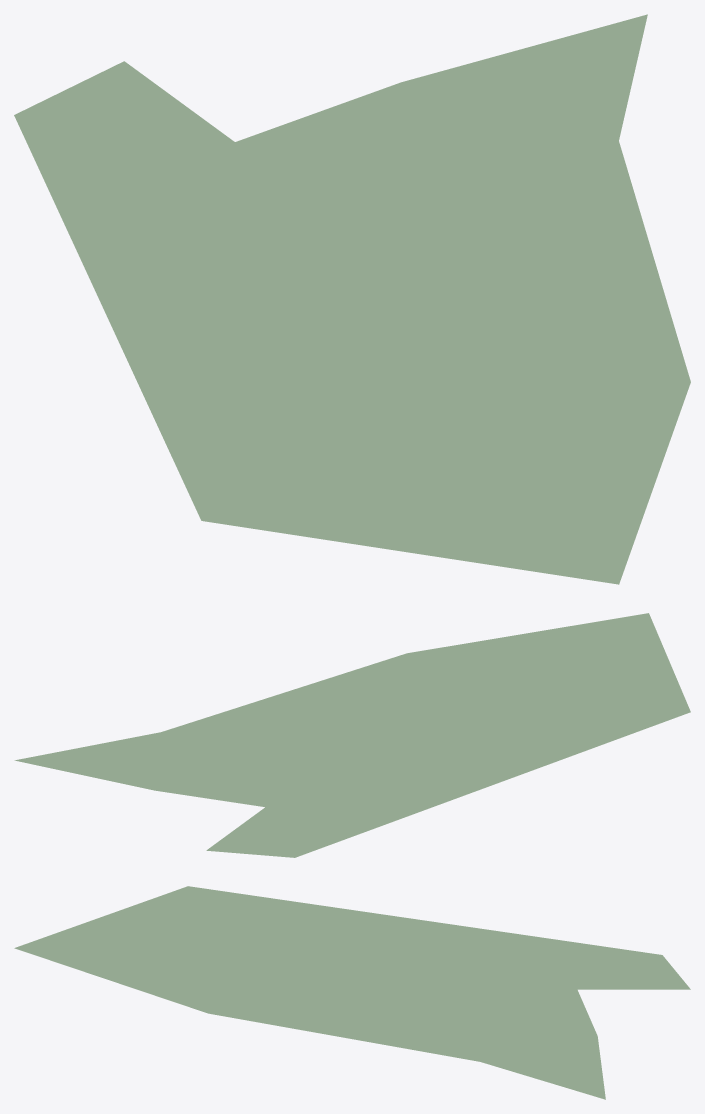
Rendered from -23_-6-known-fine.glb.
3 views of the same model, one above another, from view 1: azimuth 30°, elevation 25°; view 2: azimuth 150°, elevation 25°; view 3: azimuth 270°, elevation 25° (orthographic). The views are drawn at different scales.
Bounding box in the file's own units: 17.11 × 0 × 22.91.
